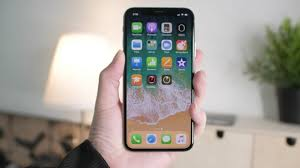iphone: (121, 7, 196, 151)
iphone10: (121, 7, 196, 151)
